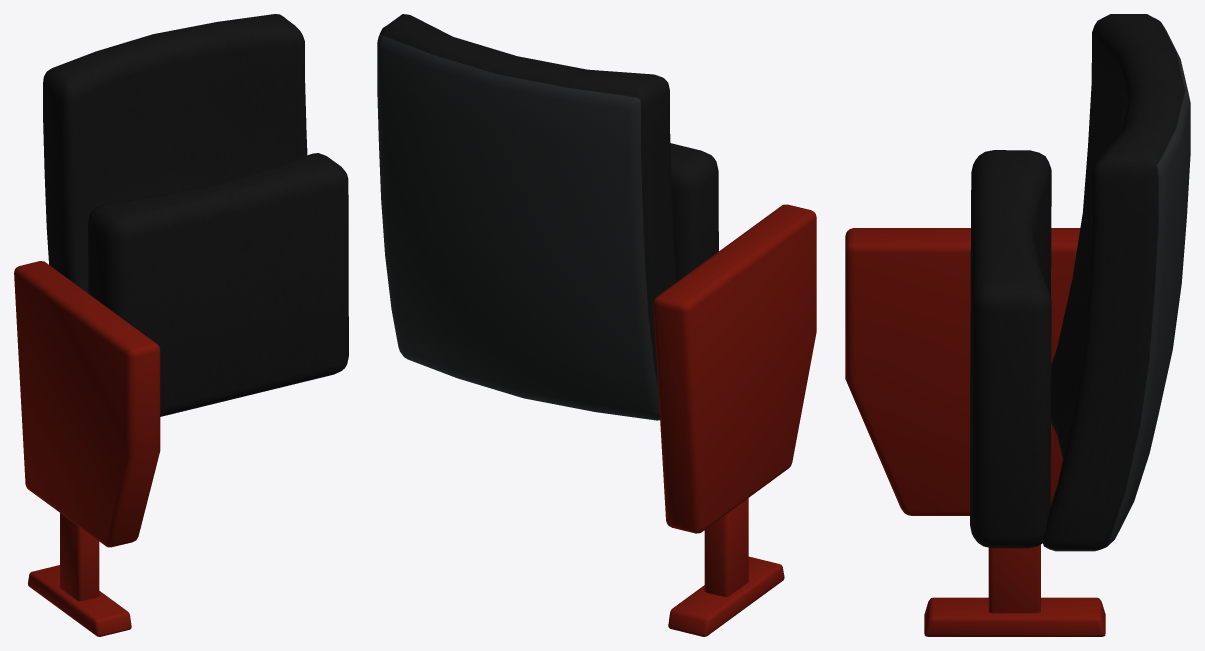
File: chairclosed.fbx
The picture shows the model from 3 angles, left to right: view 1: azimuth 30°, elevation 25°; view 2: azimuth 150°, elevation 25°; view 3: azimuth 270°, elevation 25°; orthographic projection. The views are drawn at different scales.
Parts seen in each view (by area): view 1: almohadon:001, respaldo:001, reposabrazos:001; view 2: respaldo:001, reposabrazos:001, almohadon:001; view 3: respaldo:001, reposabrazos:001, almohadon:001.
Part boxes in pixels (box(x1,y1,x2,y2)): almohadon:001: box(88, 153, 348, 416); respaldo:001: box(43, 14, 307, 293); reposabrazos:001: box(14, 261, 160, 636); respaldo:001: box(377, 14, 676, 420); reposabrazos:001: box(653, 204, 816, 636); almohadon:001: box(670, 143, 718, 281); respaldo:001: box(1043, 14, 1190, 551); reposabrazos:001: box(845, 228, 1105, 636); almohadon:001: box(970, 150, 1051, 548).
Bounding box in the file's own units: 104 × 177 × 88.24.
Materials: 2 (2 with a texture image).
